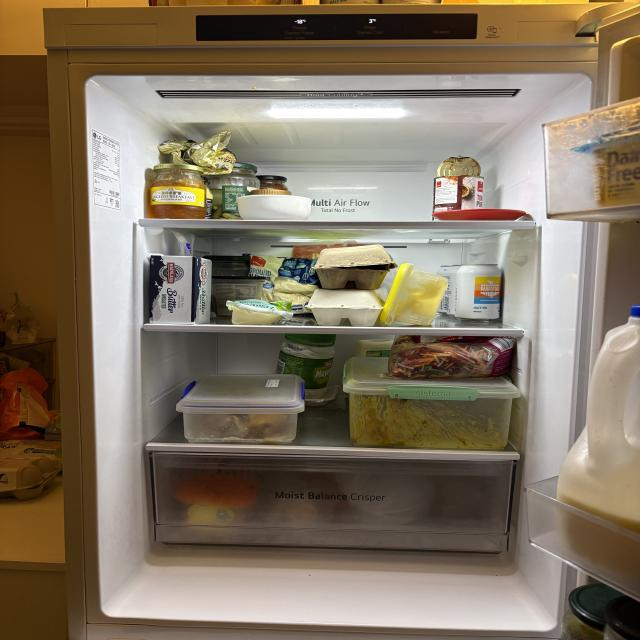Beans: (433, 156, 488, 220)
Bowl: (237, 194, 313, 218)
Cheese: (228, 296, 293, 328)
Eggs: (294, 284, 392, 330), (312, 243, 396, 289)
Energy drink: (446, 261, 510, 324)
Jam: (139, 164, 205, 225)
Mayonnaise: (278, 330, 333, 393)
Milk: (552, 296, 639, 570)
Pickle: (208, 148, 261, 218)
Pie: (142, 254, 213, 328)
PlasticBox: (346, 357, 514, 449), (181, 371, 303, 443), (383, 260, 444, 327)
Salad: (392, 335, 518, 377)
